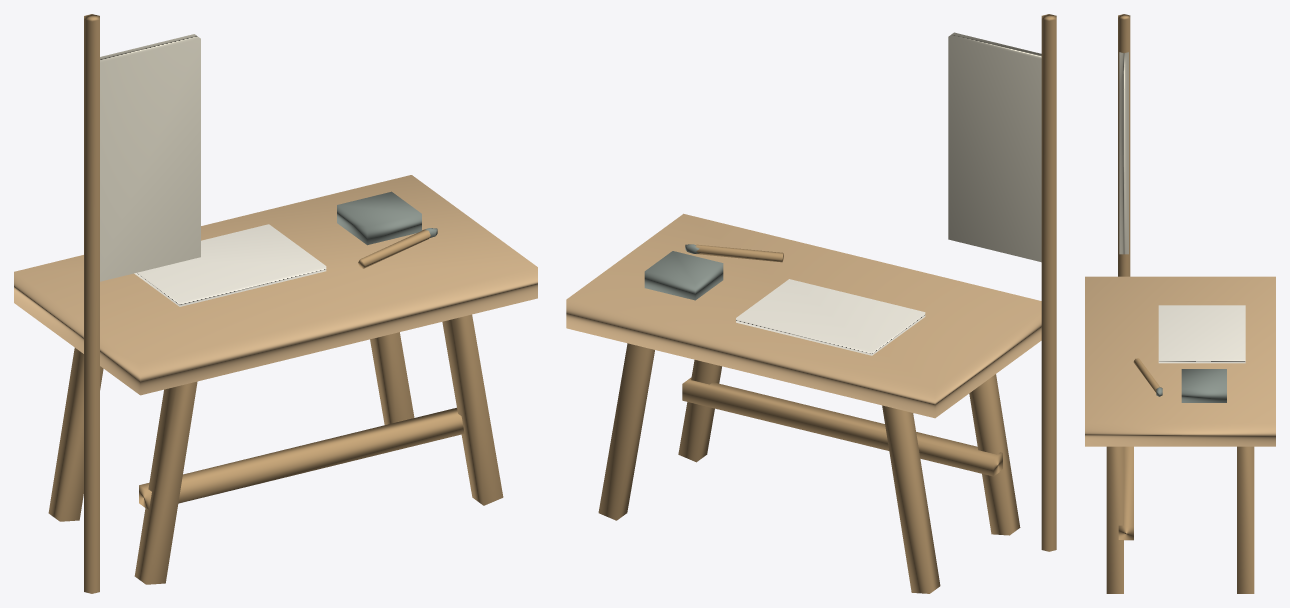
Rendered from naming_low.glb.
3 renders of one model, left to right at view 1: azimuth 30°, elevation 25°; view 2: azimuth 150°, elevation 25°; view 3: azimuth 270°, elevation 25°, orthographic. The views are drawn at different scales.
Bounding box in the file's own units: 1.72 × 2.2 × 0.88.
